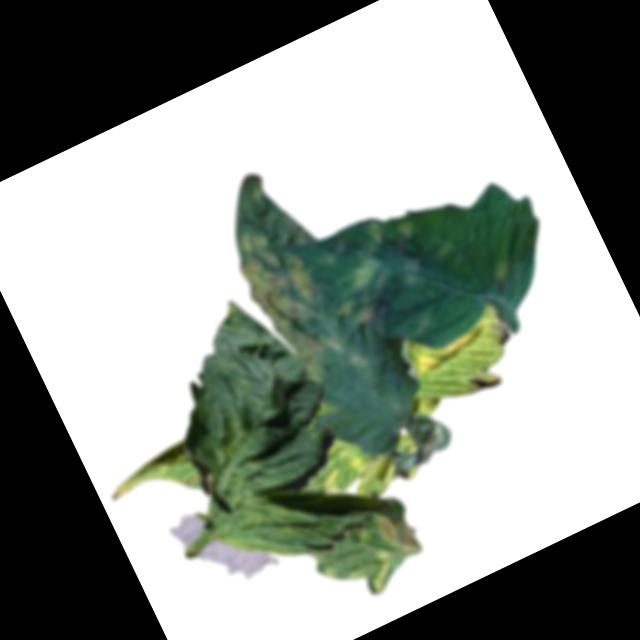Leaf_Mold: (200, 162, 366, 394), (307, 195, 455, 343), (302, 404, 433, 517), (305, 503, 431, 615), (101, 438, 207, 524), (403, 309, 495, 378)
